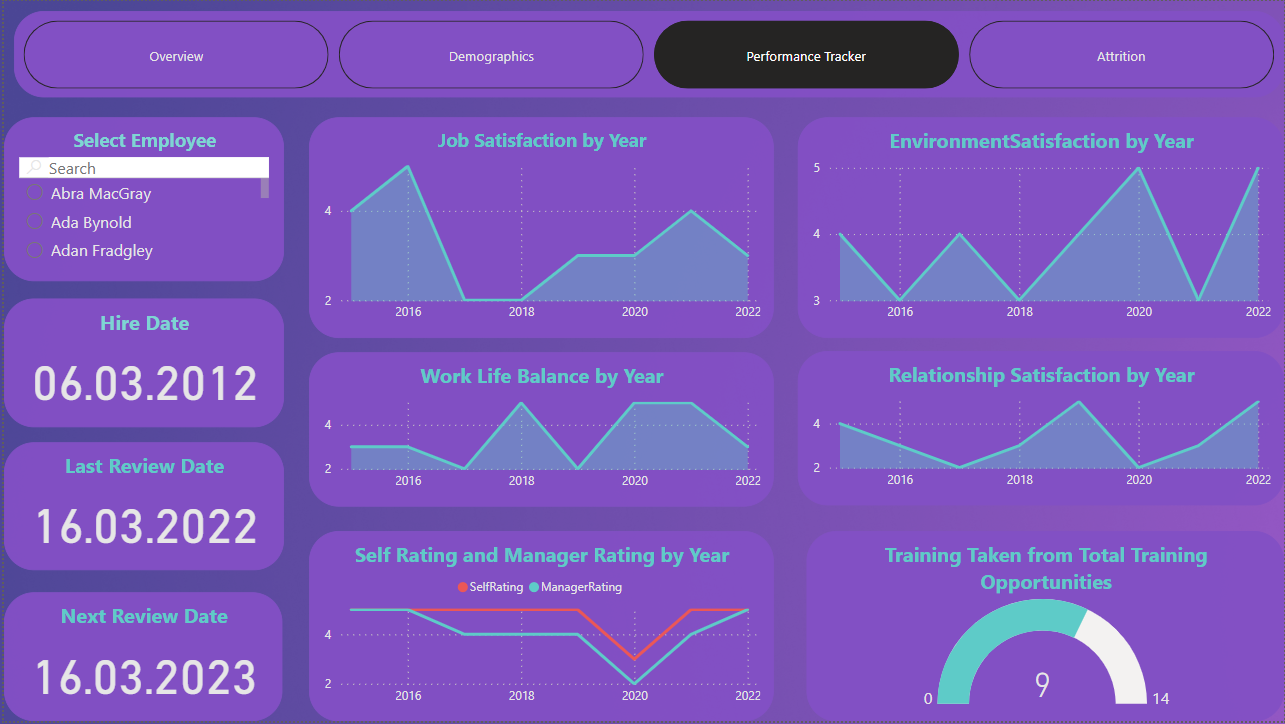

This screenshot's page, from the dashboard's own definition file:
{"tool":"powerbi","page":{"name":"Performance Tracker","canvas":[1280,720],"ordinal":2},"visuals":[{"type":"slicer","title":"Select Employee","fields":{"Values":["DimEmployee.Full Name"]},"box":[0,115.8,279.9,164.1],"z":0},{"type":"card","title":"Hire Date","fields":{"Values":["Min(DimEmployee.HireDate)"]},"box":[0,298,279.9,129.1],"z":1000},{"type":"card","title":"Next Review Date","fields":{"Values":["_Measures.NextReviewDate"]},"box":[0,591.2,278.7,129.1],"z":2000},{"type":"card","title":"Last Review Date","fields":{"Values":["_Measures.LastReviewDate"]},"box":[0,441.6,279.9,127.9],"z":3000},{"type":"stackedAreaChart","title":"Job Satisfaction by Year","fields":{"Category":["DimDate.Date.Variation.Date Hierarchy.Year"],"Y":["_Measeres.JobSatisfaction"]},"box":[305.2,115.8,464.5,220.8],"z":4000},{"type":"stackedAreaChart","fields":{"Category":["DimDate.Date.Variation.Date Hierarchy.Year"],"Y":["_Measeres.EnvironmentSatisfaction"]},"box":[793.8,115.8,486.2,220.8],"z":5000},{"type":"stackedAreaChart","title":"Relationship Satisfaction by Year","fields":{"Category":["DimDate.Date.Variation.Date Hierarchy.Year"],"Y":["_Measeres.RelationshipSatisfaction"]},"box":[793.8,349.9,486.2,154.4],"z":6000},{"type":"stackedAreaChart","title":"Work Life Balance by Year","fields":{"Category":["DimDate.Date.Variation.Date Hierarchy.Year"],"Y":["_Measeres.WorkLifeBalance"]},"box":[305.2,351.1,464.5,154.4],"z":7000},{"type":"lineChart","title":"Self Rating and Manager Rating by Year","fields":{"Y":["_Measeres.SelfRating","_Measeres.ManagerRating"],"Category":["DimDate.Date.Variation.Date Hierarchy.Year"]},"box":[305.2,529.6,464.5,190.6],"z":8000},{"type":"gauge","title":"Training Taken from Total Training Opportunities","fields":{"MaxValue":["Sum(FactPerformanceRating.TrainingOpportunitiesWithinYear)"],"Y":["Sum(FactPerformanceRating.TrainingOpportunitiesTaken)"]},"box":[802.3,529.6,477.8,190.6],"z":9000},{"type":"pageNavigator","box":[10,10,1270,86],"z":10001}]}

Visuals, with their boxes in screenshot pixels (x1, y1, x2, y2), scaled from the page's 1280x720 canvas onto the 1285x724 screenshot:
"Select Employee" slicer: 0 116 281 281
"Hire Date" card: 0 300 281 429
"Next Review Date" card: 0 594 280 723
"Last Review Date" card: 0 444 281 573
"Job Satisfaction by Year" stackedAreaChart: 306 116 773 338
stackedAreaChart - DimDate.Date.Variation.Date Hierarchy.Year x _Measeres.EnvironmentSatisfaction: 797 116 1284 338
"Relationship Satisfaction by Year" stackedAreaChart: 797 352 1284 507
"Work Life Balance by Year" stackedAreaChart: 306 353 773 508
"Self Rating and Manager Rating by Year" lineChart: 306 533 773 723
"Training Taken from Total Training Opportunities" gauge: 805 533 1284 723
pageNavigator: 10 10 1284 97
